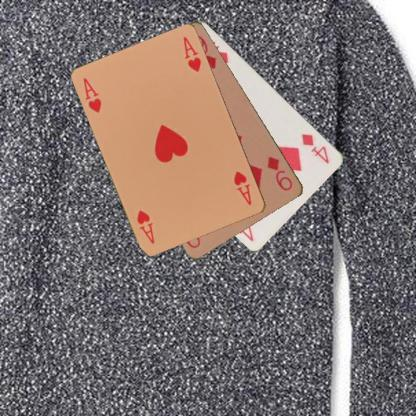4d: (299, 131, 331, 165)
9d: (265, 154, 294, 192)
Ah: (81, 75, 103, 115), (231, 168, 253, 207)
